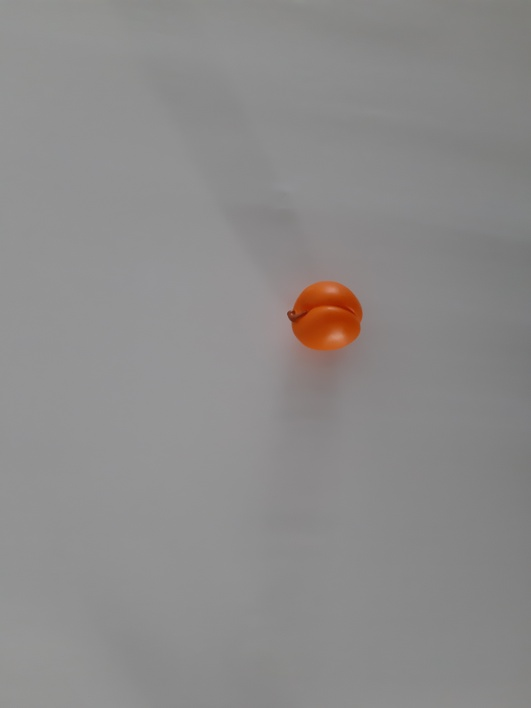apricot: (270, 264, 388, 373)
